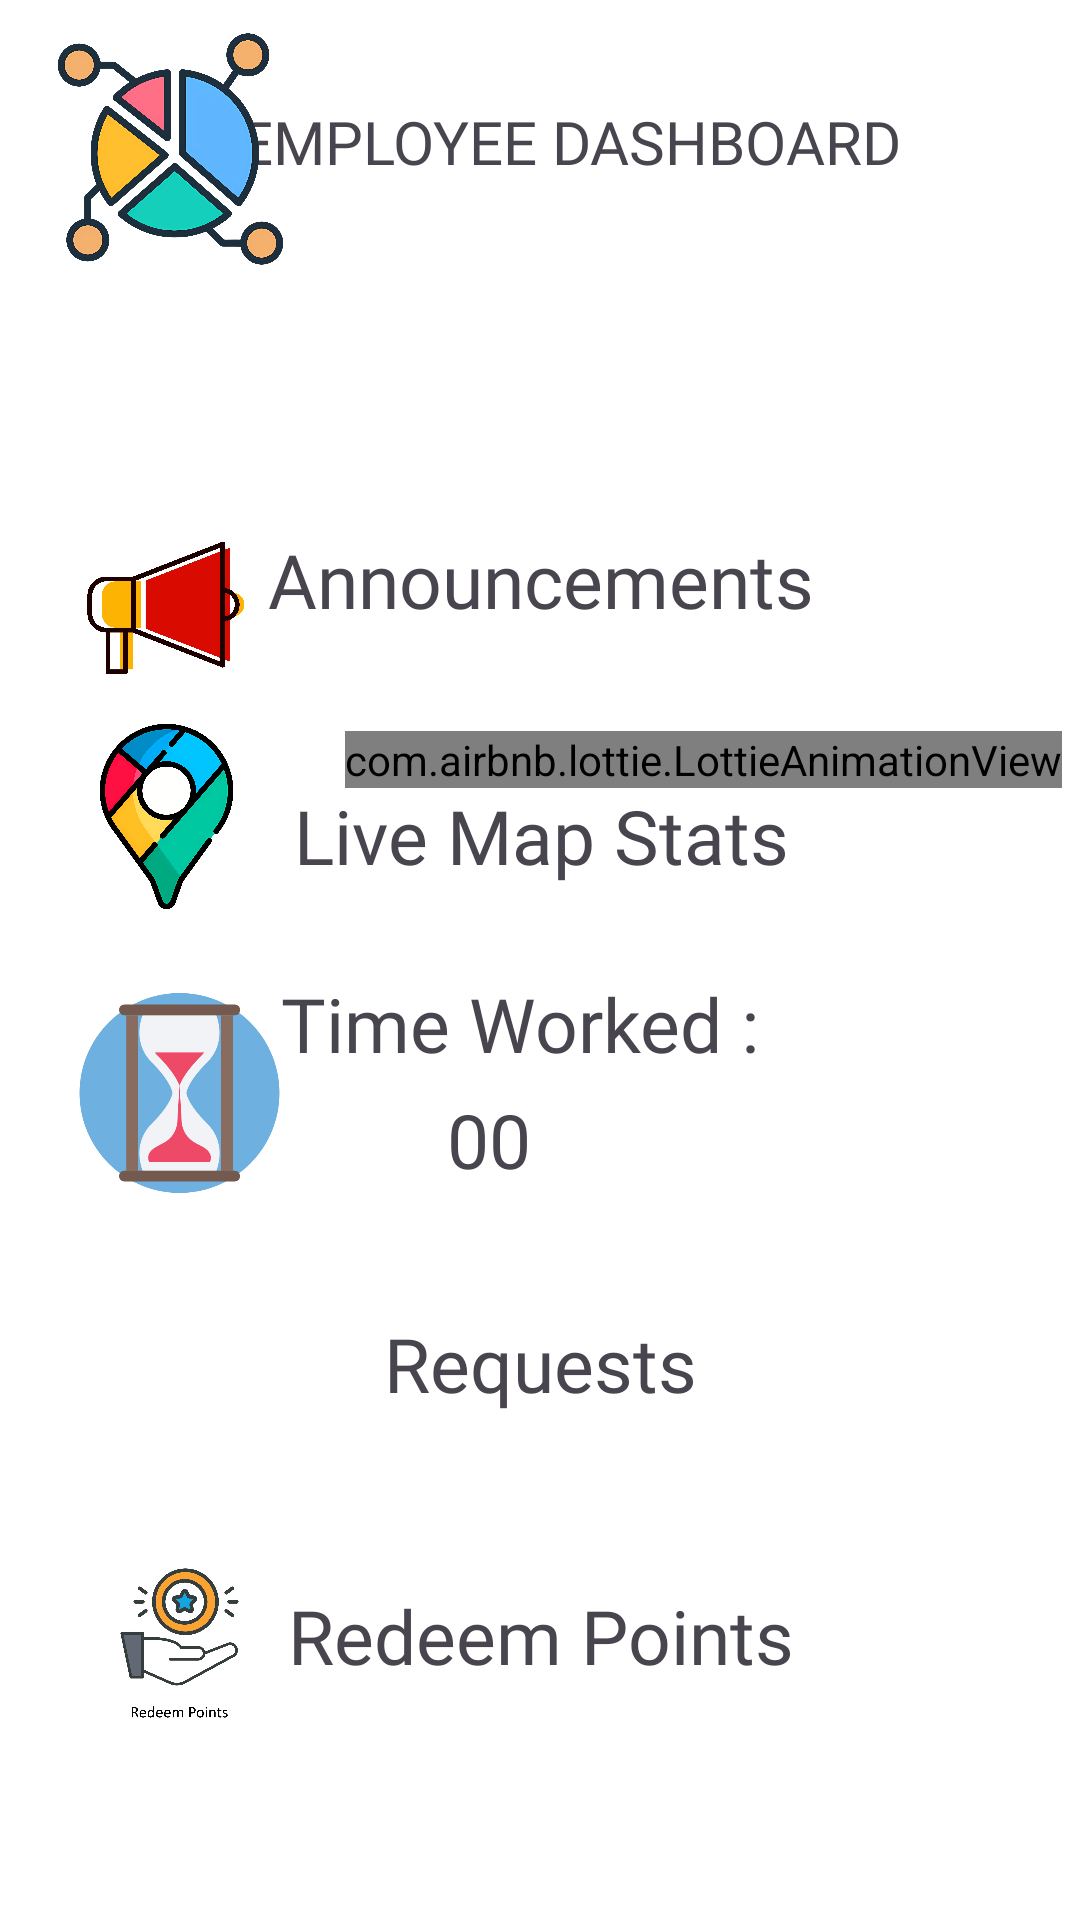

Icons on this 1080 x 1920 Android screen, each with its box as (x1, y1, x2, y2):
hourglass: (79, 993, 280, 1193)
stats: (58, 33, 283, 265)
